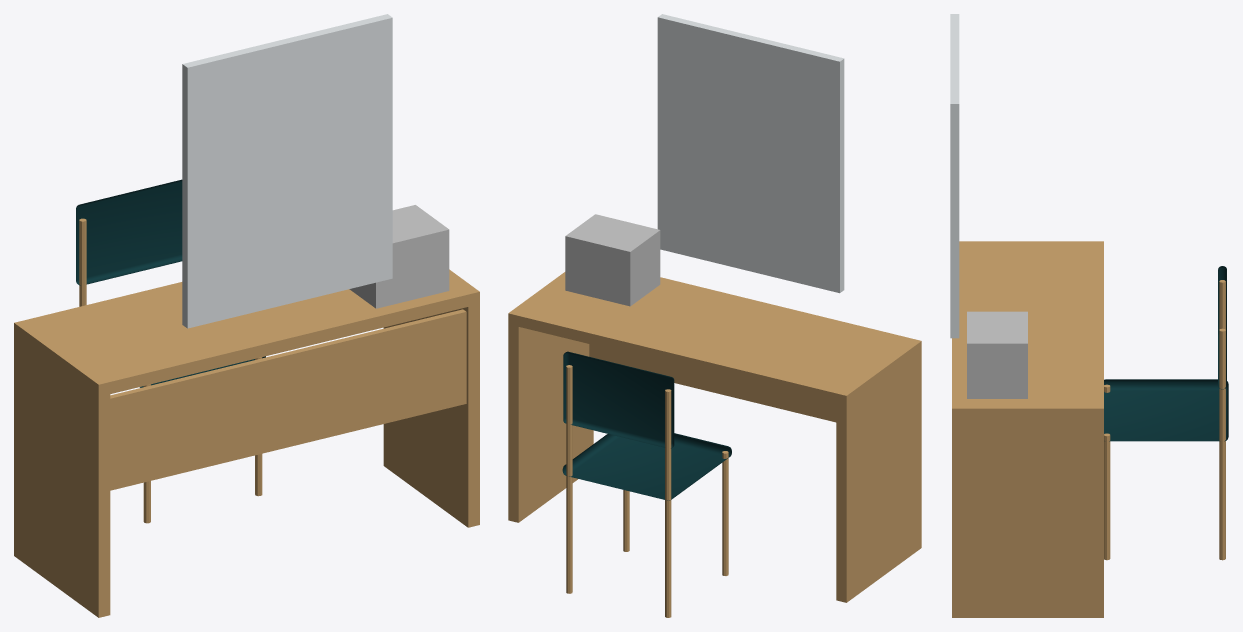
File: hospitality.hotel.desk.glb
The picture shows the model from 3 angles, left to right: view 1: azimuth 30°, elevation 25°; view 2: azimuth 150°, elevation 25°; view 3: azimuth 270°, elevation 25°; orthographic projection. The views are drawn at different scales.
Visible parts, largest first — view 1: main__glulam, main__mirror, chair__velvet_teal, main__steel_stainless, chair__glulam; view 2: main__glulam, main__mirror, chair__velvet_teal, main__steel_stainless, chair__glulam; view 3: main__glulam, chair__velvet_teal, main__steel_stainless, main__mirror, chair__glulam.
Boxes of the visible parts, x1,y1,x2,y2 form: main__glulam: (14, 269, 479, 617); main__mirror: (182, 14, 392, 328); chair__velvet_teal: (76, 179, 265, 387); main__steel_stainless: (349, 205, 449, 308); chair__glulam: (79, 218, 262, 523); main__glulam: (508, 272, 921, 602); main__mirror: (657, 14, 844, 293); chair__velvet_teal: (562, 351, 731, 500); main__steel_stainless: (565, 214, 660, 306); chair__glulam: (566, 365, 728, 617); main__glulam: (952, 241, 1103, 617); chair__velvet_teal: (1104, 266, 1228, 441); main__steel_stainless: (967, 311, 1027, 398); main__mirror: (950, 14, 959, 338); chair__glulam: (1104, 280, 1225, 560).
Size of the model in its own units: 1.3 by 1.72 by 0.915.
